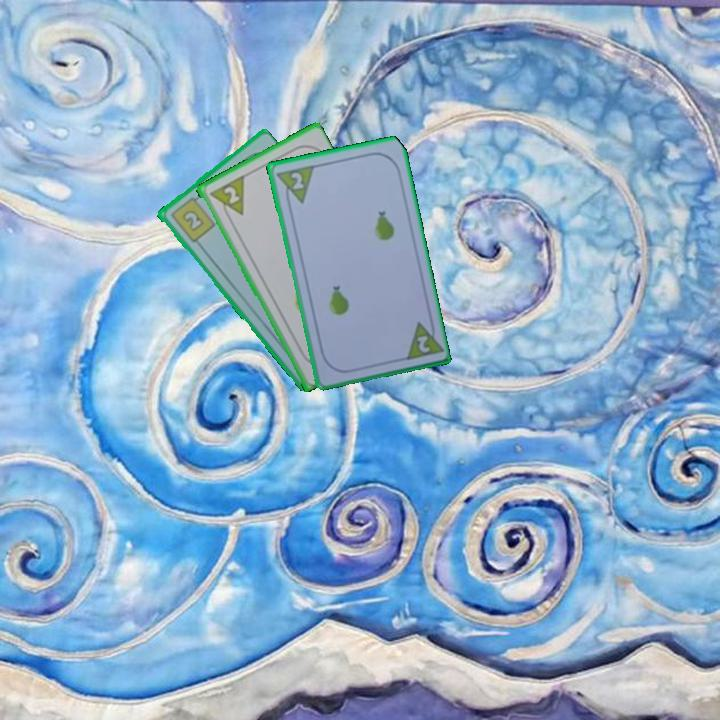2b: (167, 191, 217, 245)
2p: (204, 172, 247, 224), (272, 161, 317, 208), (413, 331, 433, 356)
